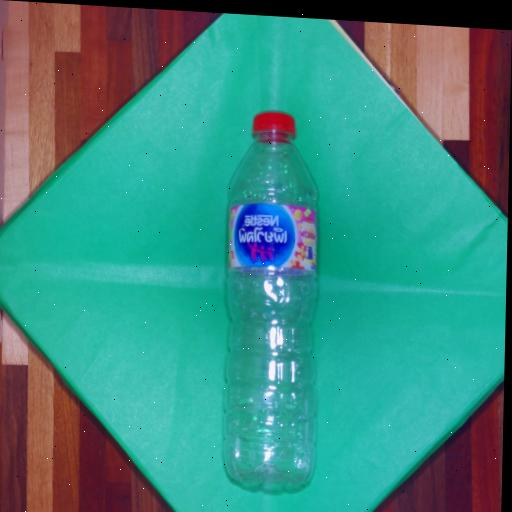bottle: (222, 102, 323, 494)
